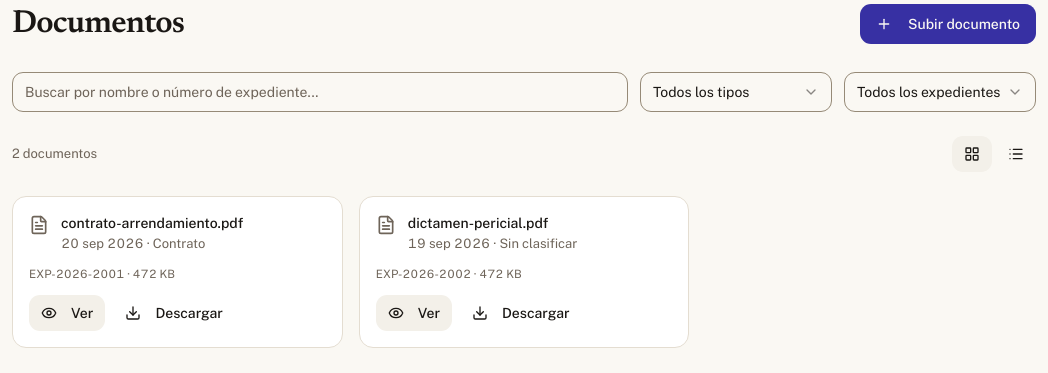
FirmDocuments › the view toggle (FR-011) › switches between grid and list without asking the server again
Expected: the element with test id "document-card-doc-a" is shown, [12,196,343,348]
Click the button named "ver como lista" at (1016, 154), box [996,136,1036,172]
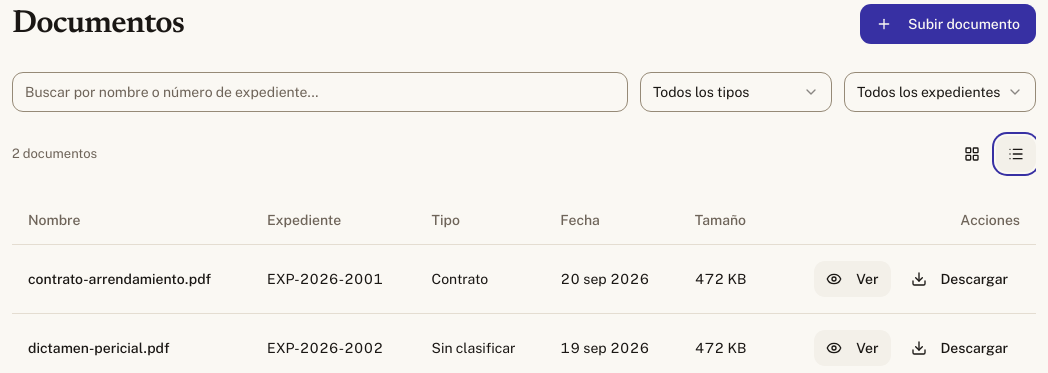
Result: the row with test id "document-row-doc-a" is shown at [12,244,1036,313]
Result: the element with test id "document-card-doc-a" is gone
Click the button named "ver como cuadrícula" at (972, 154), box [952,136,992,172]
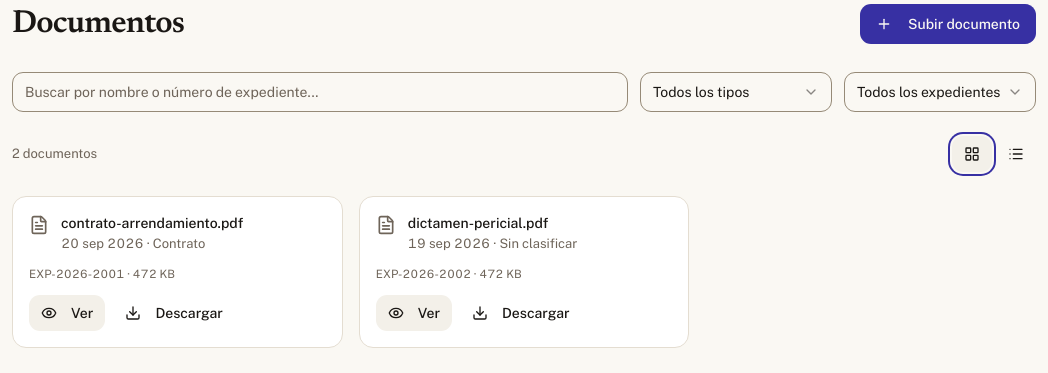
Result: the element with test id "document-card-doc-a" is shown at [12,196,343,348]
